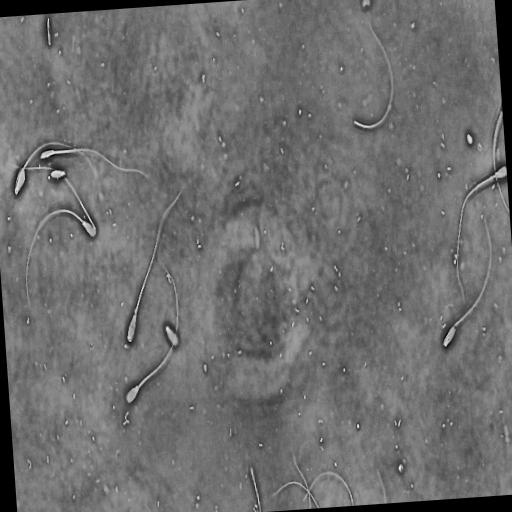dirt-particles: (467, 130, 474, 147)
folded-tail: (443, 215, 492, 345), (15, 142, 97, 194)
loose-tail: (10, 158, 99, 234), (353, 18, 395, 132), (301, 468, 355, 505), (271, 478, 321, 508), (292, 454, 312, 508)
normal: (125, 185, 184, 346), (124, 263, 180, 407), (439, 211, 494, 350), (455, 162, 507, 304), (25, 206, 98, 307), (13, 139, 99, 198), (38, 147, 152, 182)
proximal-droplet: (134, 307, 137, 315)
